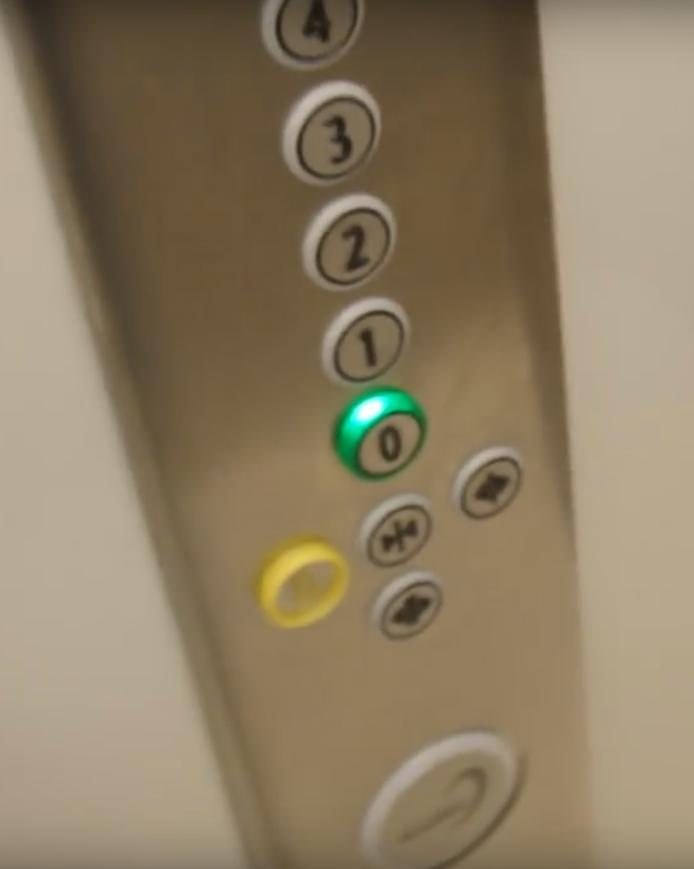0: (329, 384, 432, 484)
1: (321, 296, 412, 390)
2: (301, 193, 397, 292)
3: (281, 80, 380, 189)
4: (261, 1, 364, 71)
blur: (253, 536, 351, 633)
close: (358, 491, 438, 568)
open: (453, 444, 532, 522), (369, 573, 448, 644)
